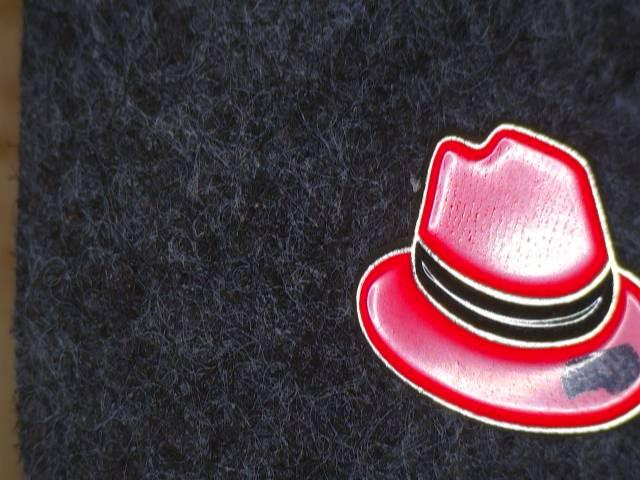Red-Hat: (324, 89, 640, 450)
Scratch: (548, 335, 640, 413)
